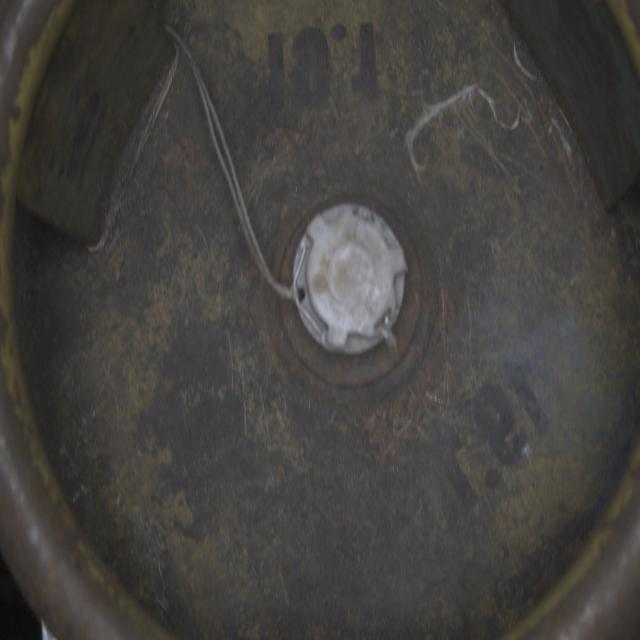Cap: (294, 204, 411, 362)
